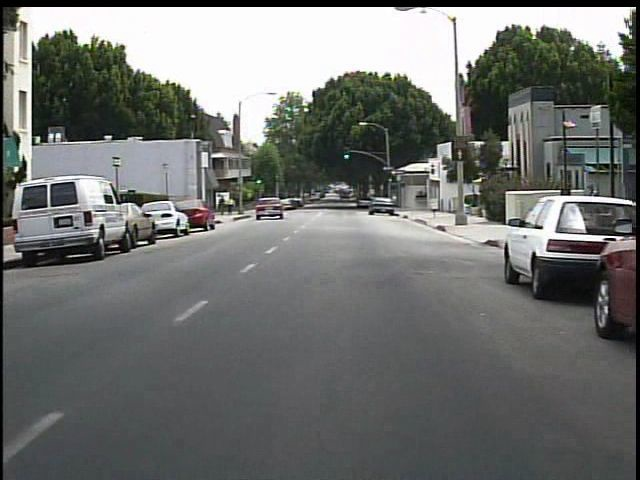person: (217, 195, 230, 217), (227, 196, 238, 218)
